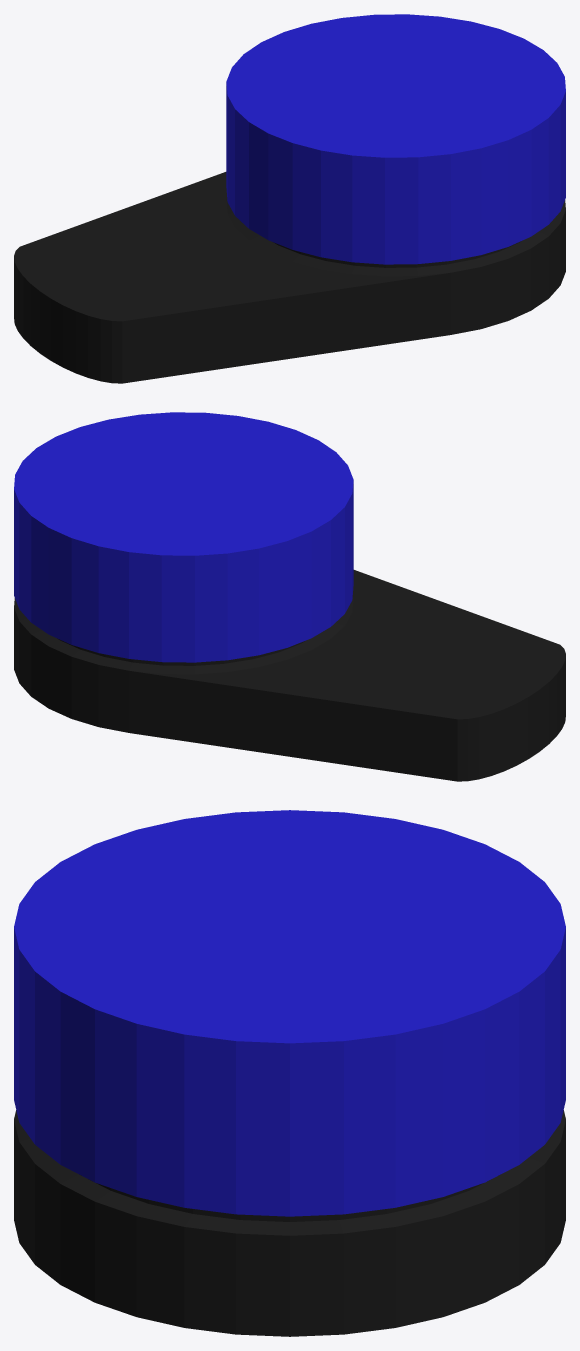
Rendered from lidar.dae.
The picture shows the model from 3 angles, top to bottom: view 1: azimuth 30°, elevation 25°; view 2: azimuth 150°, elevation 25°; view 3: azimuth 270°, elevation 25°; orthographic projection. The views are drawn at different scales.
Visible parts, largest first — view 1: visual_laser; view 2: visual_laser; view 3: visual_laser.
Boxes of the visible parts, box(x1,y1,x2,y2) form: visual_laser: box(14, 14, 565, 383); visual_laser: box(14, 412, 565, 781); visual_laser: box(14, 810, 565, 1336).
Bounding box in the file's own units: 0.111 × 0.065 × 0.0384.
